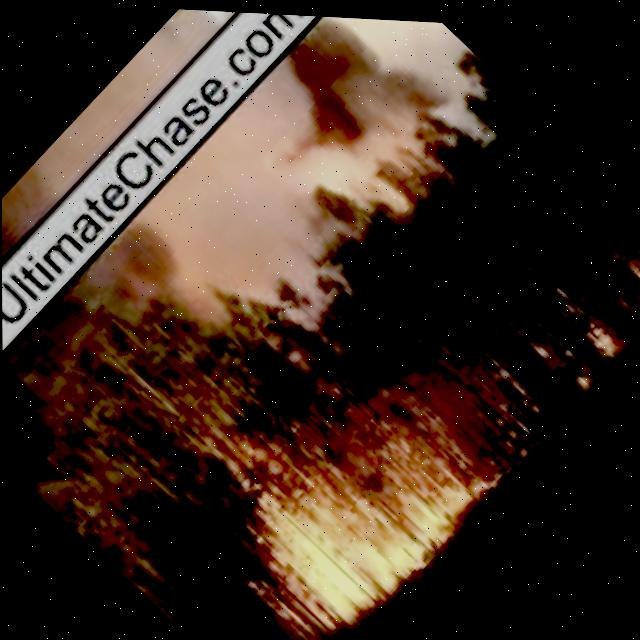Fire: (245, 372, 488, 627), (574, 306, 626, 359), (620, 223, 640, 300)
Smoke: (0, 0, 480, 525), (0, 0, 337, 392)
